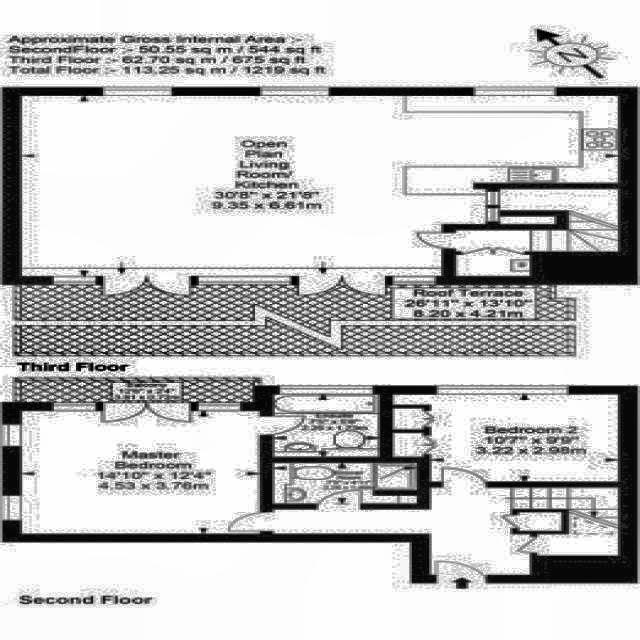room: (21, 96, 617, 276), (12, 283, 575, 356), (24, 411, 259, 533), (272, 487, 561, 576), (392, 395, 619, 482), (274, 394, 378, 457), (13, 378, 253, 403), (274, 464, 418, 503), (456, 256, 530, 276)
